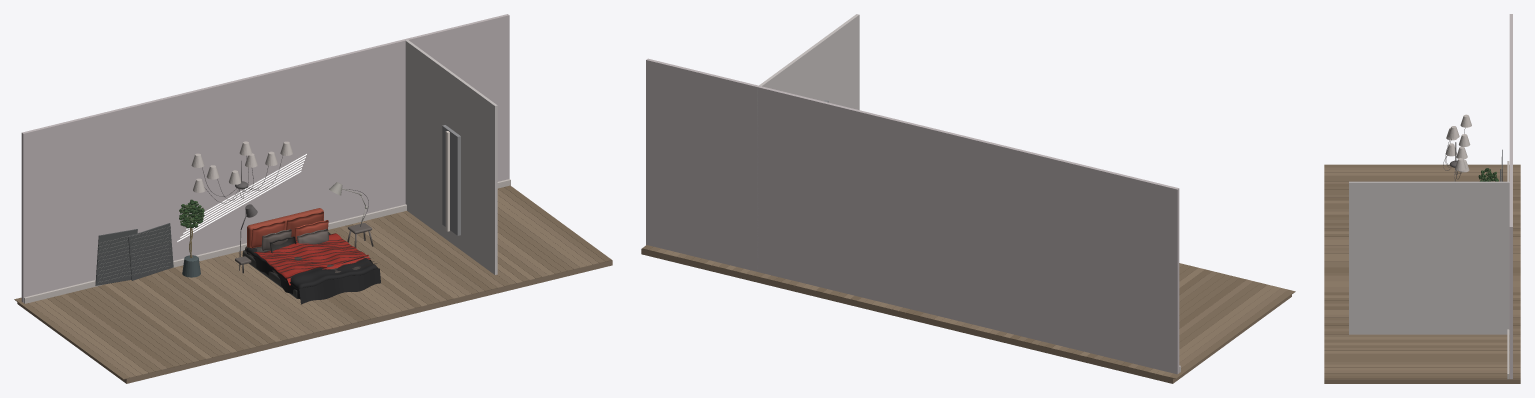
Rendered from scene-4-gpt6.glb.
3 renders of one model, left to right at view 1: azimuth 30°, elevation 25°; view 2: azimuth 150°, elevation 25°; view 3: azimuth 270°, elevation 25°, orthographic. The views are drawn at different scales.
Parts seen in each view (by area): view 1: rear plaster wall, right return wall, floor slab, scarlet woven throw, scalloped metal panel 1, scalloped metal panel 0, back wall skirting, window inner recess, charcoal duvet shaped top, duvet foot drape, oak floor plank 00, oak floor plank 58 (+52 smaller); view 2: rear plaster wall, right return wall, floor slab, oak floor plank 00, oak floor plank 01, oak floor plank 02, oak floor plank 03, oak floor plank 04, oak floor plank 05, oak floor plank 06; view 3: right return wall, rear plaster wall, floor slab, oak floor plank 63, oak floor plank 69, oak floor plank 74, oak floor plank 64, oak floor plank 68, oak floor plank 72, oak floor plank 73, oak floor plank 05, oak floor plank 04 (+17 smaller).
Boxes of the visible parts, <box> form: rear plaster wall: <box>21,14,509,302</box>; right return wall: <box>405,40,497,274</box>; floor slab: <box>17,187,612,383</box>; scarlet woven throw: <box>254,233,368,278</box>; scalloped metal panel 1: <box>128,223,173,280</box>; scalloped metal panel 0: <box>95,229,137,285</box>; back wall skirting: <box>23,179,510,303</box>; window inner recess: <box>442,125,460,235</box>; charcoal duvet shaped top: <box>245,232,378,291</box>; duvet foot drape: <box>299,268,380,304</box>; oak floor plank 00: <box>14,298,129,379</box>; oak floor plank 58: <box>390,213,497,289</box>; rear plaster wall: <box>646,58,1179,374</box>; right return wall: <box>757,14,859,271</box>; floor slab: <box>641,248,1291,383</box>; oak floor plank 00: <box>1169,290,1295,378</box>; oak floor plank 01: <box>1162,288,1287,377</box>; oak floor plank 02: <box>1155,286,1281,375</box>; oak floor plank 03: <box>1148,284,1274,373</box>; oak floor plank 04: <box>1141,283,1267,372</box>; oak floor plank 05: <box>1135,281,1260,370</box>; oak floor plank 06: <box>1128,279,1253,368</box>; right return wall: <box>1349,181,1509,334</box>; rear plaster wall: <box>1509,14,1512,379</box>; floor slab: <box>1324,379,1520,383</box>; oak floor plank 63: <box>1324,339,1520,342</box>; oak floor plank 69: <box>1324,356,1520,359</box>; oak floor plank 74: <box>1324,370,1520,373</box>; oak floor plank 64: <box>1324,342,1520,345</box>; oak floor plank 68: <box>1324,353,1520,356</box>; oak floor plank 72: <box>1324,364,1520,367</box>; oak floor plank 73: <box>1324,367,1520,370</box>; oak floor plank 05: <box>1324,178,1520,181</box>; oak floor plank 04: <box>1324,175,1520,178</box>.
Size of the model in its own units: 18.11 by 6.18 by 7.
